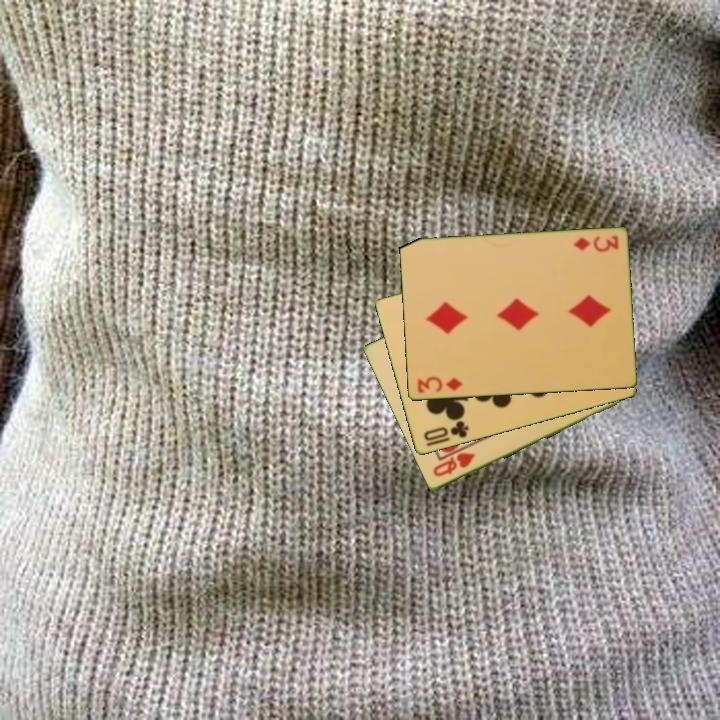10c: (420, 417, 471, 444)
3d: (413, 373, 465, 396), (570, 232, 621, 254)
Qh: (429, 449, 478, 480)
